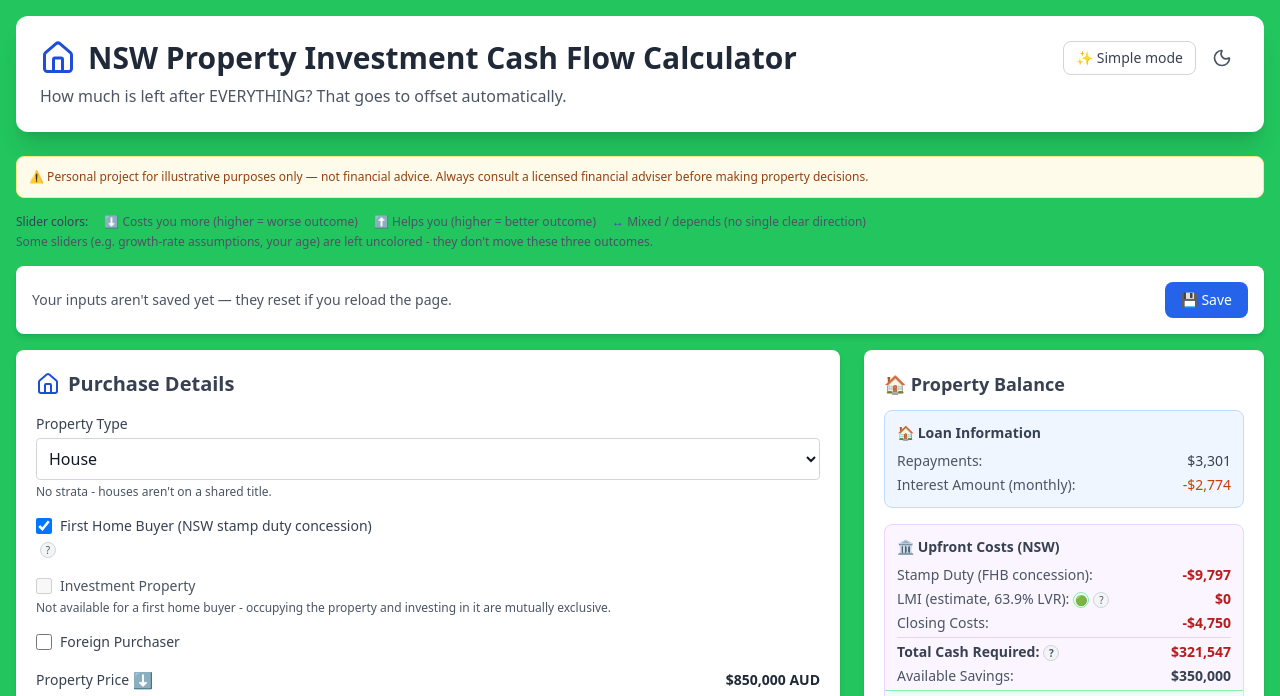
Property Type (house vs unit) › switching to unit seeds Strata to $1000 when it started at 0
Select "Unit / Apartment" in the dropdown showing "House": coordinates (428, 459) [36,438,820,480]
(page scrolled)
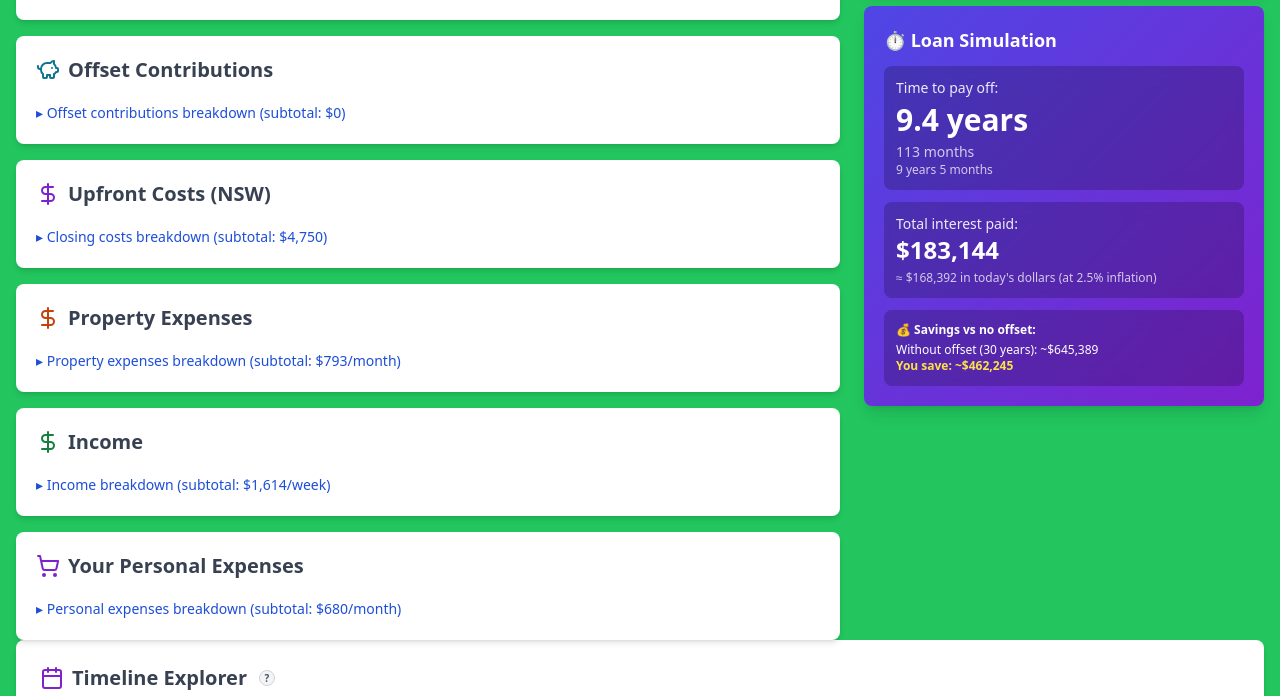
Click the button "▸ Property expenses breakdown (subtotal: $793/month)": coordinates (218, 361) [36,351,401,371]
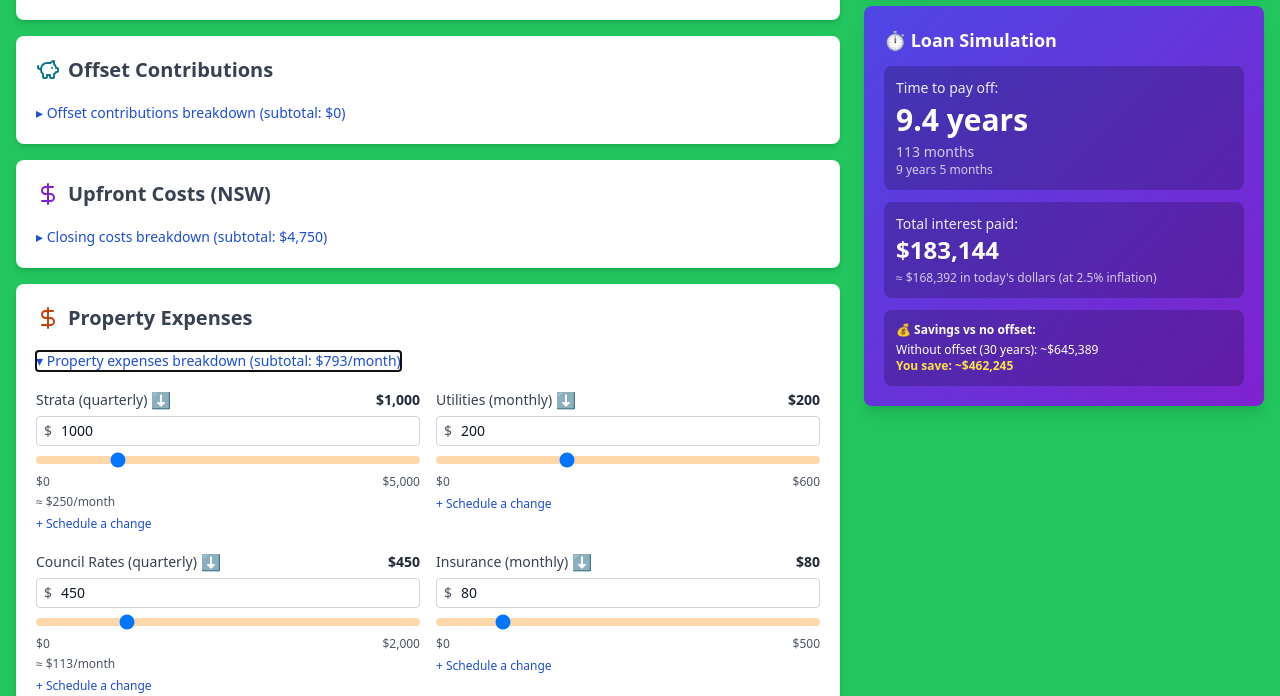
Now the number field labelled "Strata (quarterly)" holds "1000", box [36,416,420,446]
